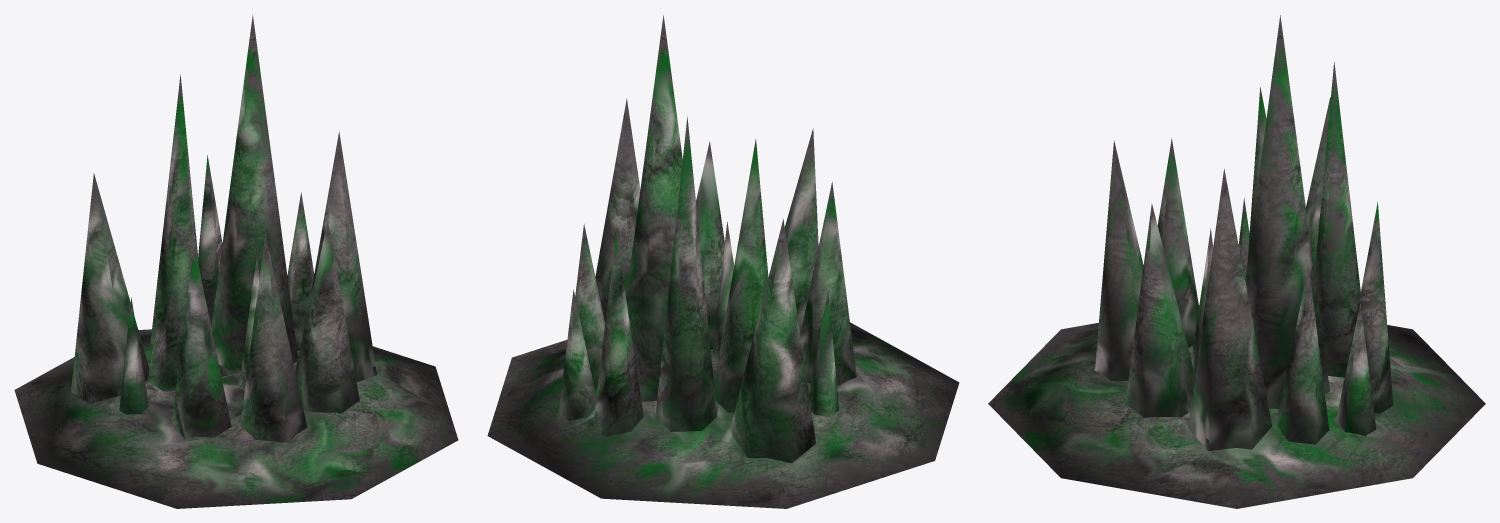
Rendered from stalactites1.fbx.
3 views of the same model, side by side, from view 1: azimuth 30°, elevation 25°; view 2: azimuth 150°, elevation 25°; view 3: azimuth 270°, elevation 25° (orthographic). The views are drawn at different scales.
Visible parts, largest first — view 1: Cone.008; view 2: Cone.008; view 3: Cone.008.
Part boxes in pixels (<box>): Cone.008: <box>14,14,458,508</box>; Cone.008: <box>487,15,959,508</box>; Cone.008: <box>988,15,1485,508</box>.
Bounding box in the file's own units: 141 × 130 × 141.
Materials: 1 (1 with a texture image).
